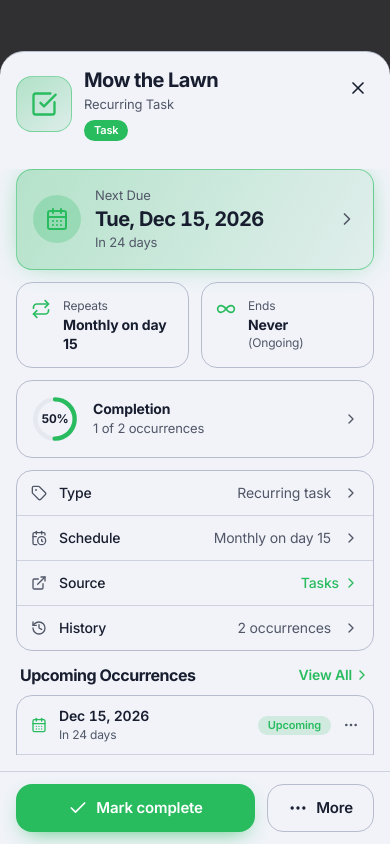
Test: a recurring task: one date at a time › Delete this occurrence takes two taps (Rule 8)
Later steps or results of the test are not shown.
Click the button with test id "cal-view-all": [334, 675] box [299,665,370,685]
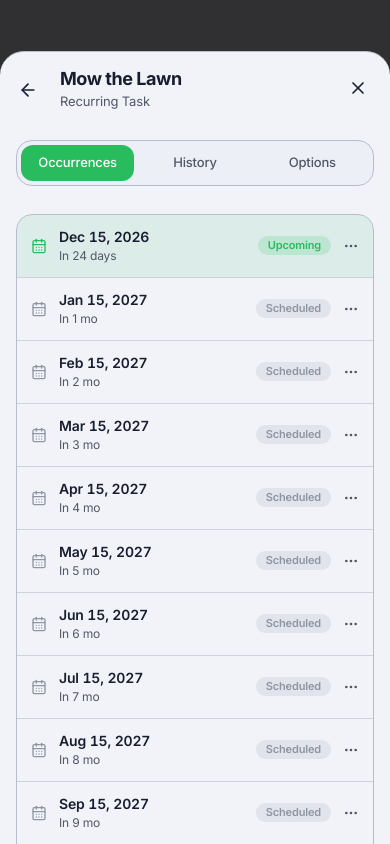
Click the button with test id "cal-occ-2026-12-15": [104, 236] box [17,215,373,277]
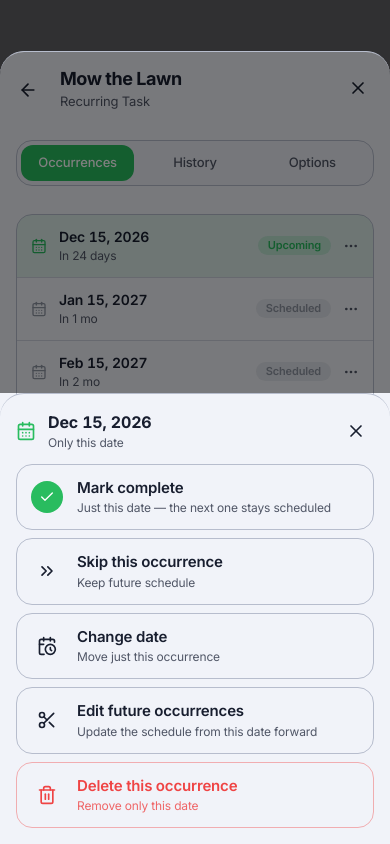
Click the button with test id "cal-menu-deleteOccurrence": [195, 795] box [16,762,374,828]
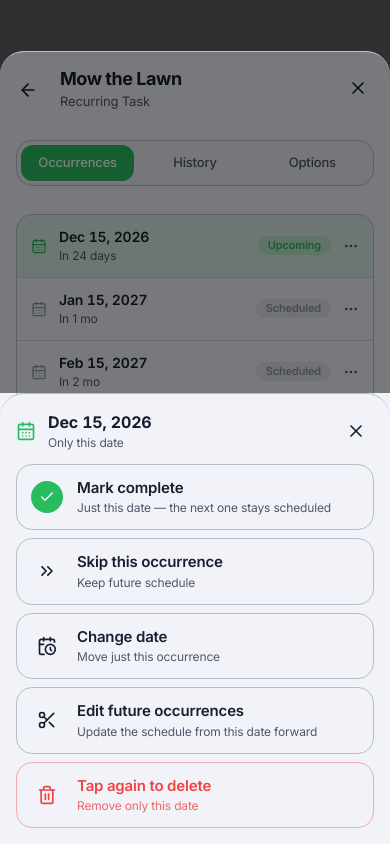
Now the button with test id "cal-menu-deleteOccurrence" shows "Tap again", box [16,762,374,828]
